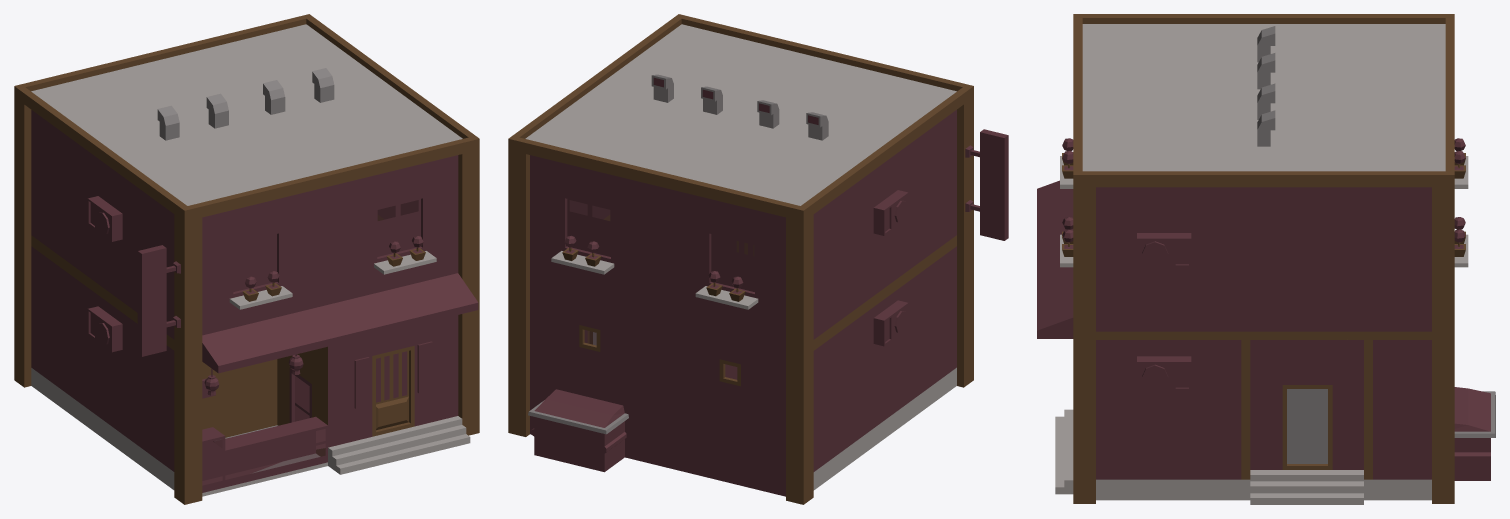
File: building-shop-china.fbx
The picture shows the model from 3 angles, left to right: view 1: azimuth 30°, elevation 25°; view 2: azimuth 150°, elevation 25°; view 3: azimuth 270°, elevation 25°; orthographic projection. The views are drawn at different scales.
Visible parts, largest first — view 1: building-shop-china; view 2: building-shop-china; view 3: building-shop-china.
Boxes of the visible parts, left/top/right/bottom form: building-shop-china: left=14, top=14, right=479, bottom=504; building-shop-china: left=508, top=14, right=1008, bottom=504; building-shop-china: left=1037, top=14, right=1495, bottom=504.
Size of the model in its own units: 9.65 by 8.55 by 10.11.
